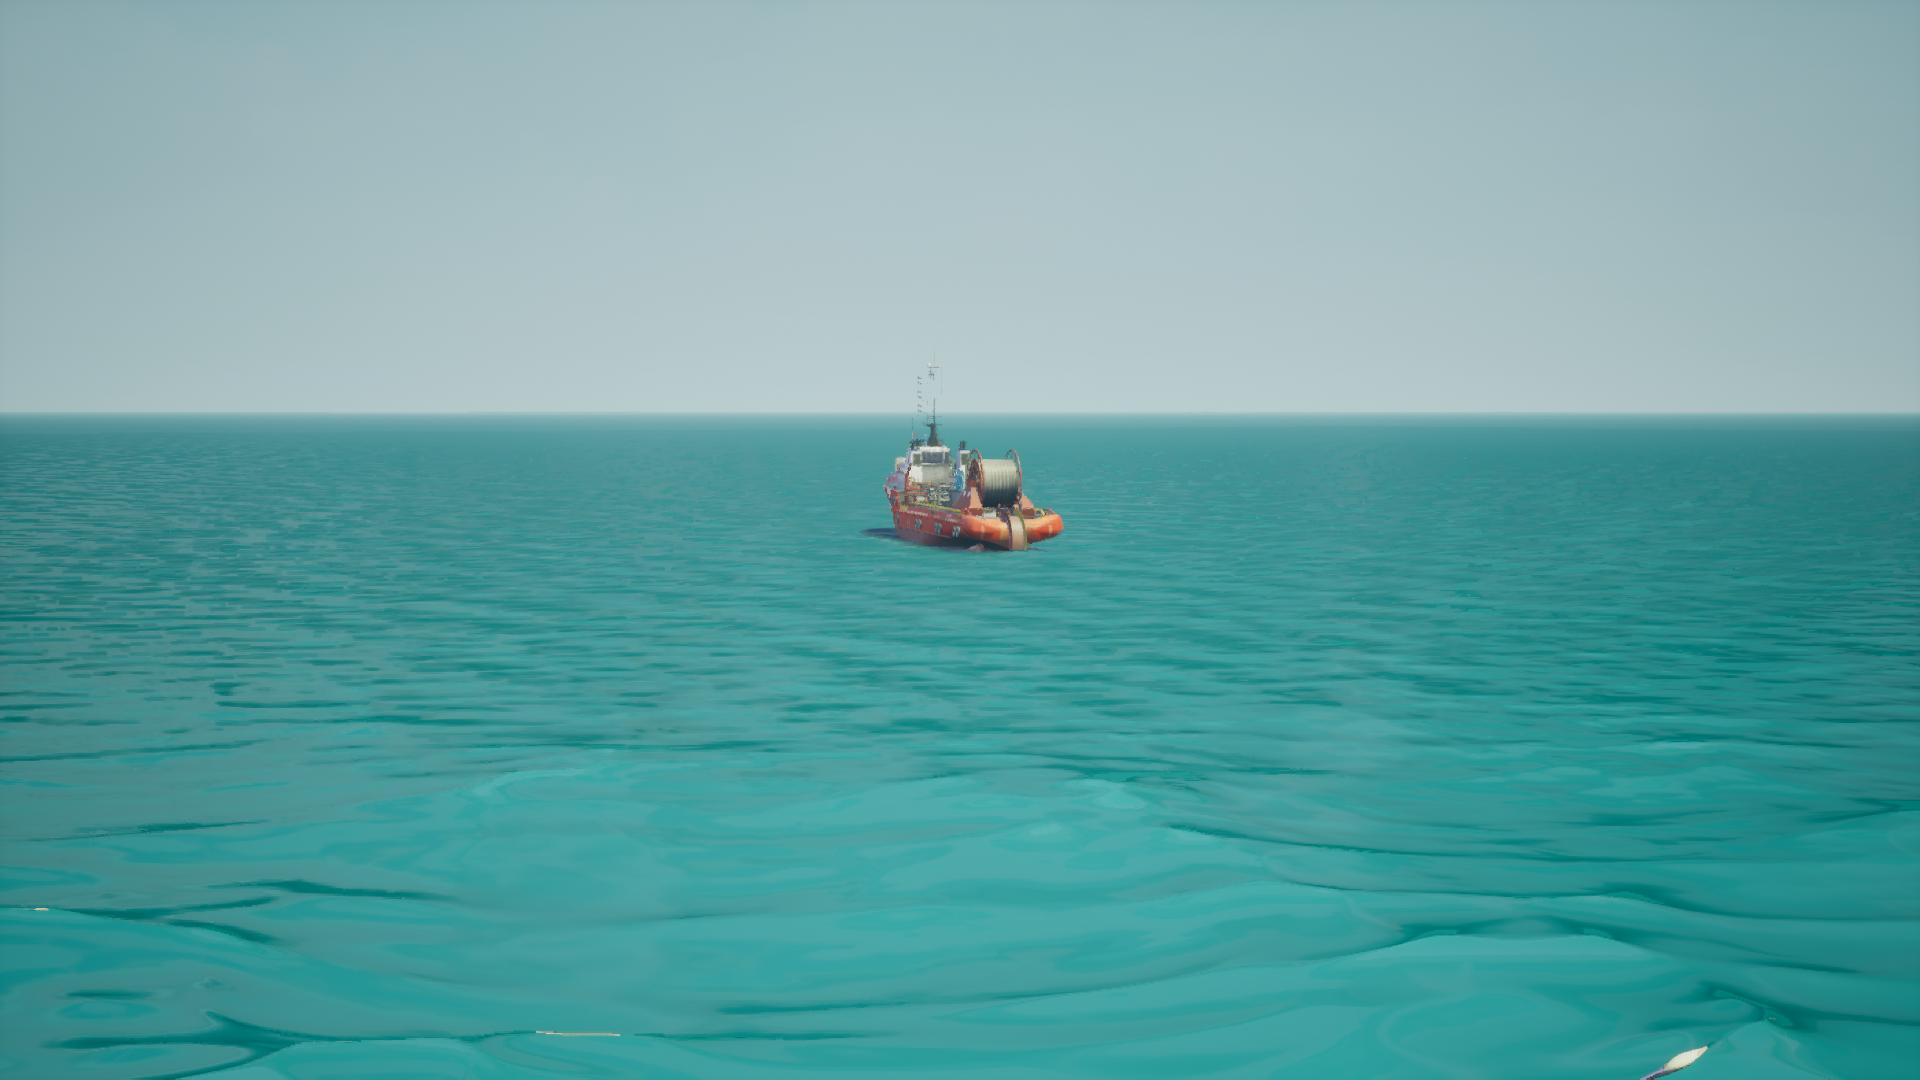Tug Boat: (882, 365, 1054, 553)
